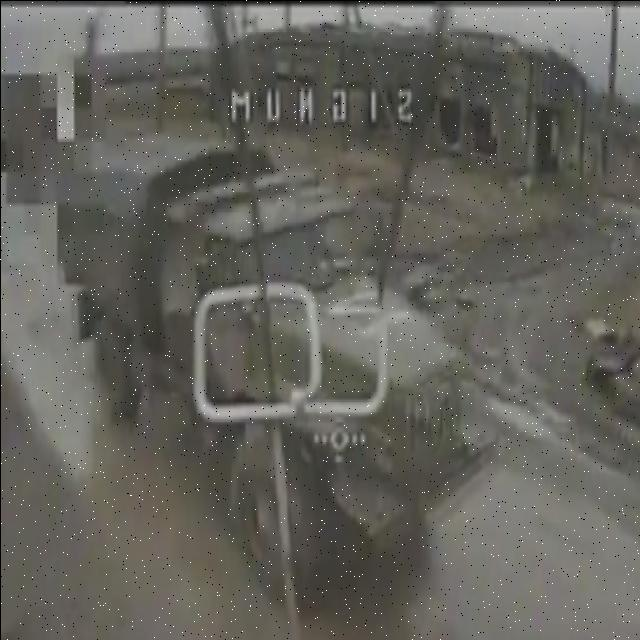TRUCK: (59, 130, 502, 590)
